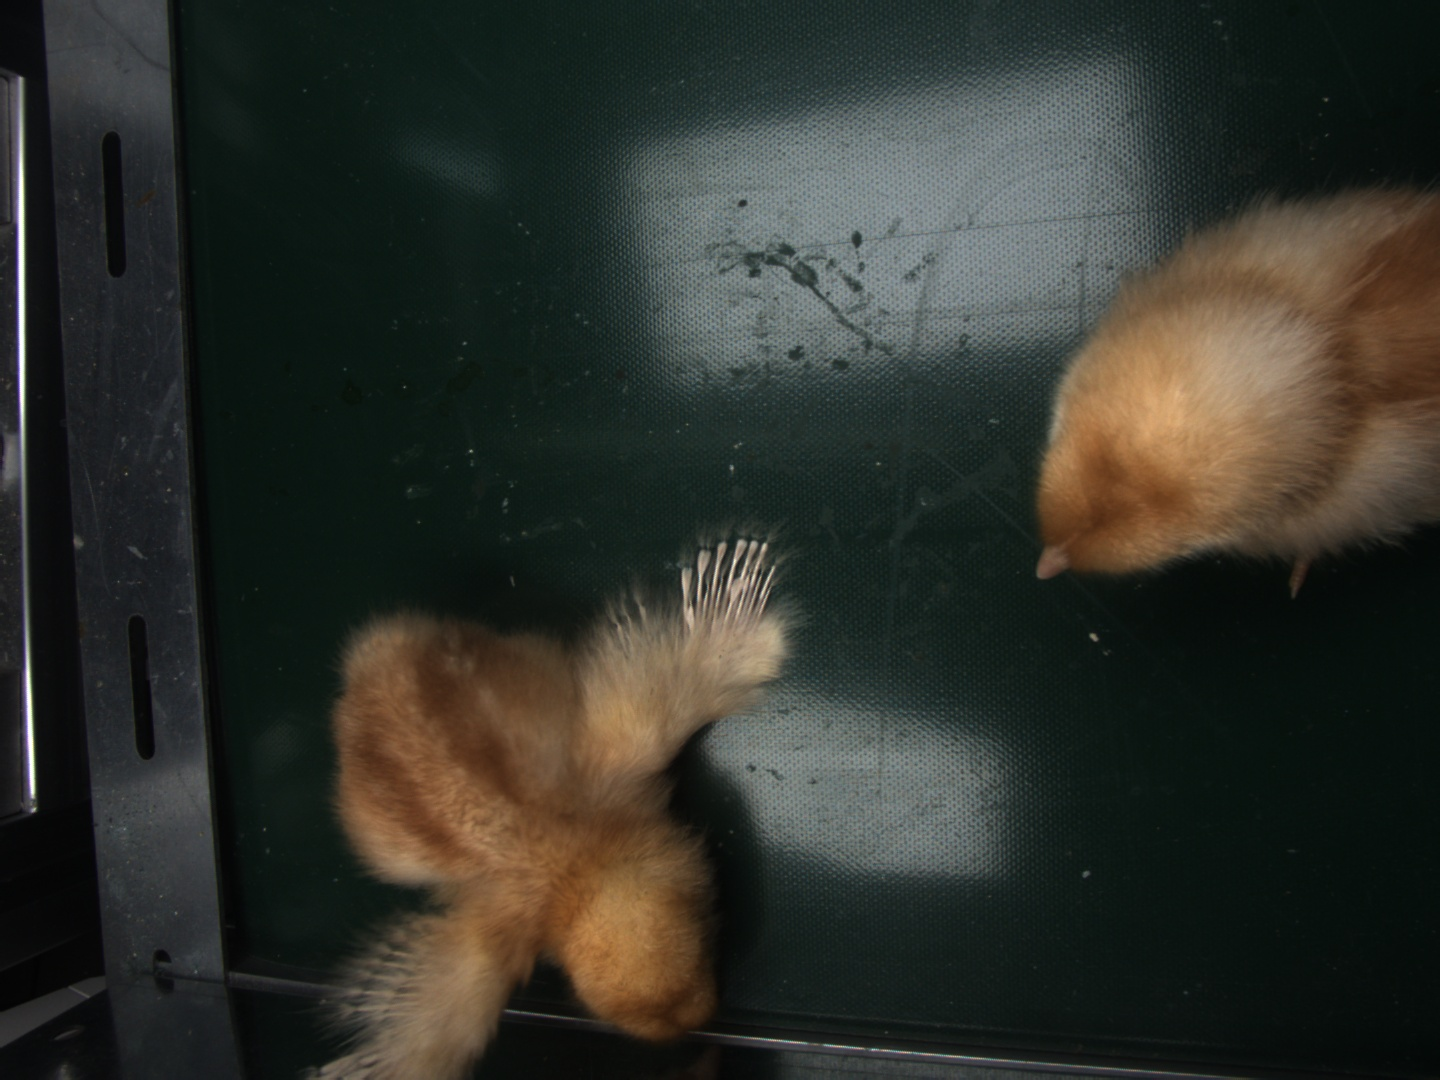female: (678, 535, 780, 621)
